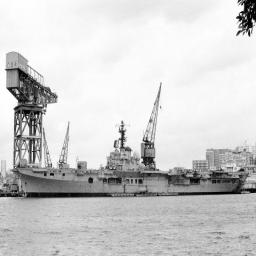Portanaves: (12, 117, 252, 199)
